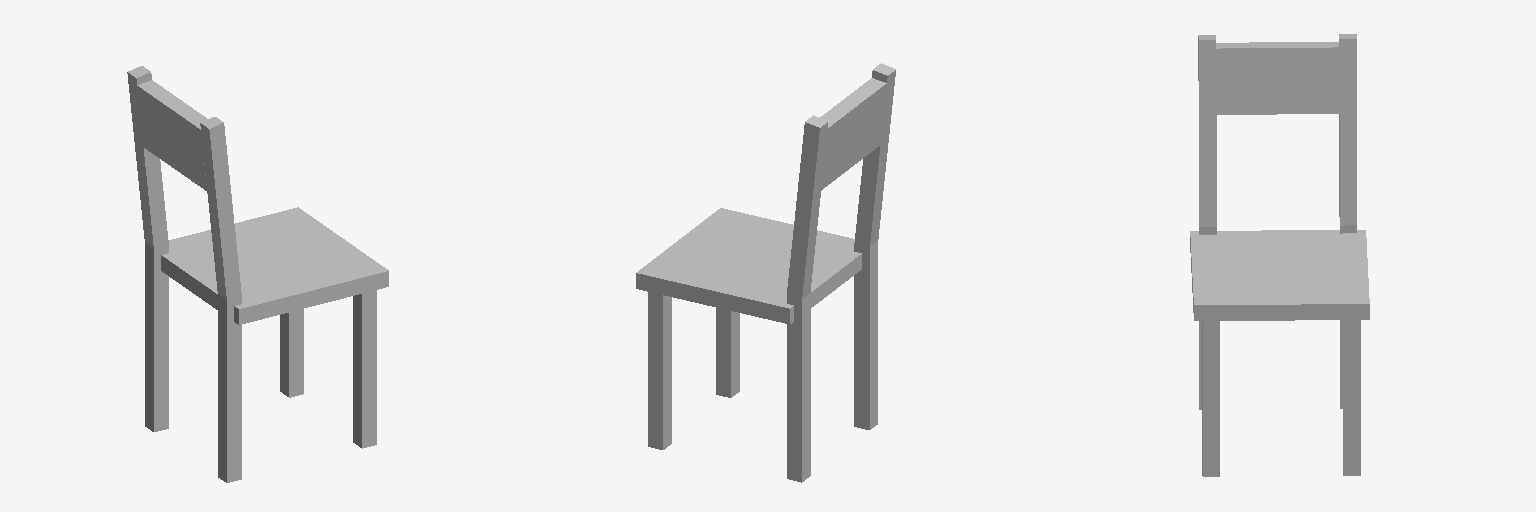
File: char.obj
The picture shows the model from 3 angles: view 1: azimuth 30°, elevation 25°; view 2: azimuth 150°, elevation 25°; view 3: azimuth 270°, elevation 25°; orthographic projection.
Parts seen in each view (by area): view 1: Cube.003; view 2: Cube.003; view 3: Cube.003.
Part boxes in pixels (bbox=[...]): Cube.003: bbox=[127, 66, 388, 482]; Cube.003: bbox=[636, 63, 895, 482]; Cube.003: bbox=[1190, 34, 1369, 476].
Bounding box in the file's own units: 0.829 × 1.58 × 0.7133.